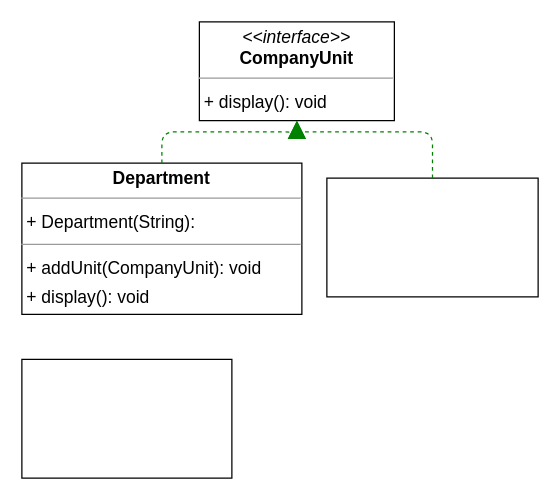
Image size: 560x500. Some labels were removed from this diagram. Each missing label, with the centre of its shape:
Composite + Composite(): + main(String[]): void: (x=126, y=418)
Worker + Worker(String, int): + display(): void: (x=432, y=237)
